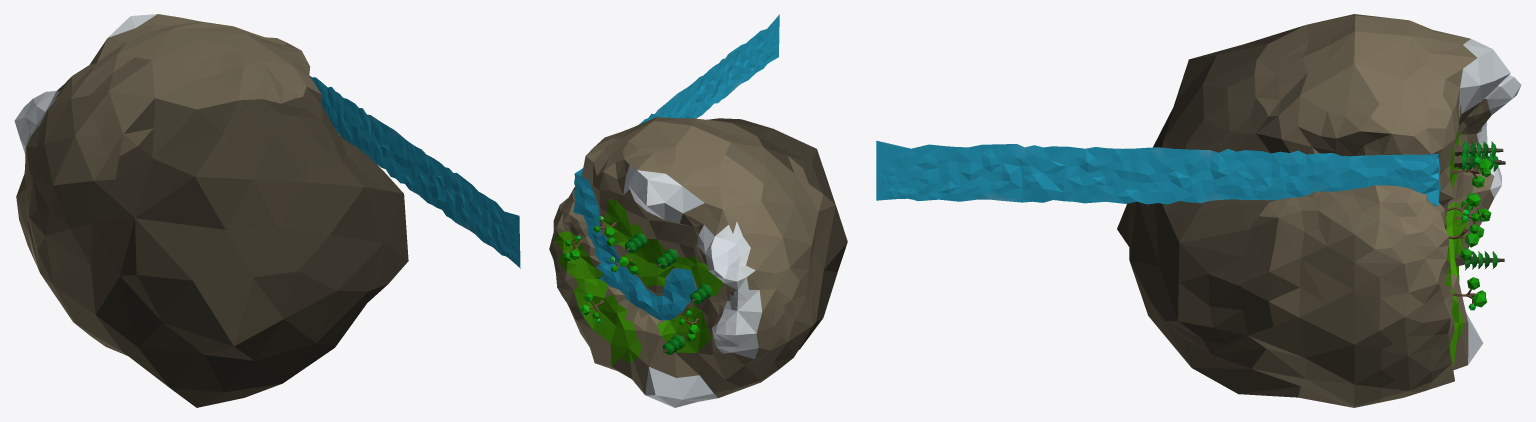
Rendered from Floating Island.dae.
The picture shows the model from 3 angles, left to right: view 1: azimuth 30°, elevation 25°; view 2: azimuth 150°, elevation 25°; view 3: azimuth 270°, elevation 25°; orthographic projection. The views are drawn at different scales.
Parts seen in each view (by area): view 1: Cube; view 2: Cube; view 3: Cube.
Boxes of the visible parts, x1=… form: Cube: x1=14, y1=14, x2=520, y2=407; Cube: x1=549, y1=14, x2=847, y2=407; Cube: x1=876, y1=14, x2=1521, y2=407.
Bounding box in the file's own units: 19.11 × 32.32 × 19.99.
